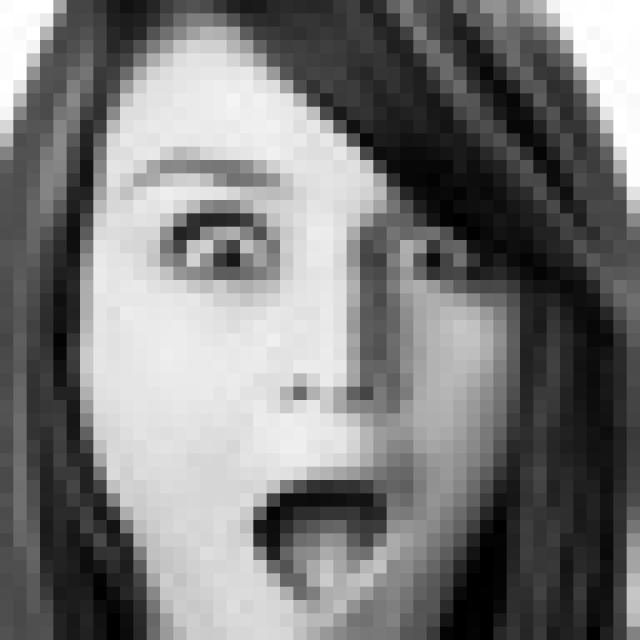surprise: (129, 150, 512, 614)
